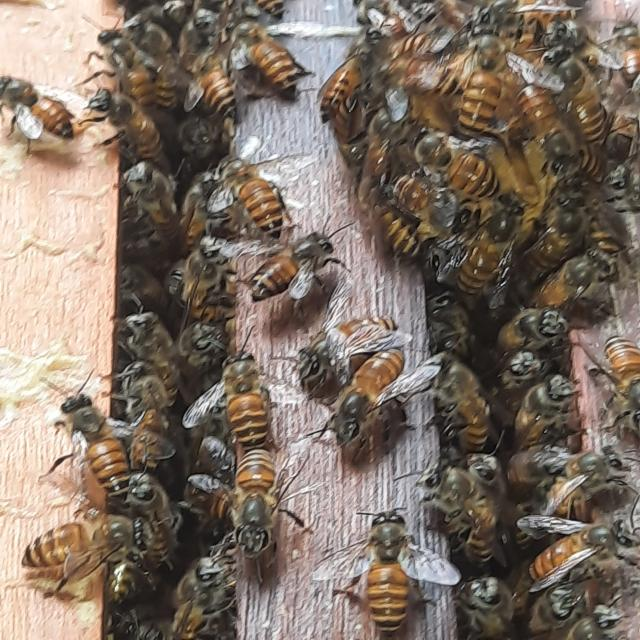honeybee: (328, 509, 455, 634), (21, 369, 130, 488), (14, 518, 161, 604), (512, 503, 637, 583), (311, 380, 434, 458), (212, 451, 297, 554), (429, 346, 511, 448), (192, 157, 304, 230), (443, 28, 515, 135), (287, 317, 416, 374), (198, 342, 279, 432), (349, 175, 434, 260), (0, 62, 78, 154), (466, 188, 525, 309), (400, 115, 500, 183), (243, 236, 350, 297), (542, 47, 610, 142), (578, 330, 640, 430), (84, 90, 168, 162), (242, 32, 334, 96), (169, 237, 234, 317), (332, 31, 398, 108), (525, 246, 614, 299), (183, 55, 235, 119)
